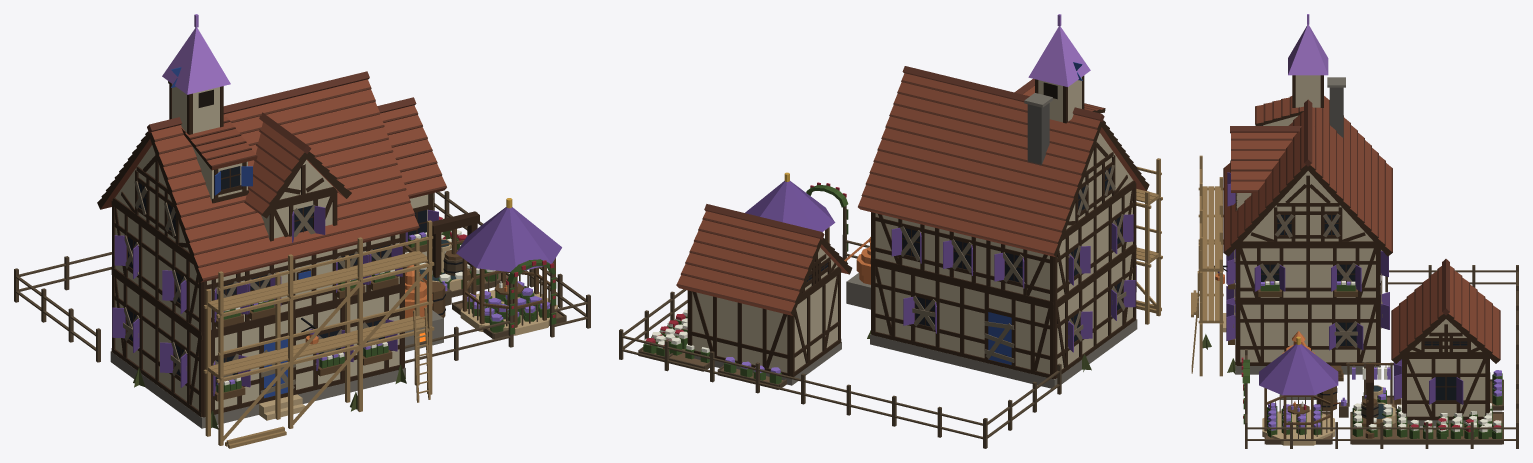
The model's file is parfumeur.glb.
3 renders of one model, left to right at view 1: azimuth 30°, elevation 25°; view 2: azimuth 150°, elevation 25°; view 3: azimuth 270°, elevation 25°, orthographic. The views are drawn at different scales.
Parts seen in each view (by area): view 1: Haus, Geruest, Stufe2, Stufe3, Stufe1, Leerstand; view 2: Haus, Stufe2, Stufe1, Stufe3, Leerstand, Geruest; view 3: Haus, Stufe2, Stufe3, Stufe1, Geruest, Leerstand.
Boxes of the visible parts, x1,y1,x2,y2 form: Haus: (97, 71, 451, 428); Geruest: (203, 220, 434, 448); Stufe2: (181, 97, 587, 363); Stufe3: (162, 14, 561, 335); Stufe1: (14, 191, 590, 362); Leerstand: (123, 181, 406, 429); Haus: (844, 66, 1149, 388); Stufe2: (638, 103, 1105, 385); Stufe1: (619, 289, 1061, 448); Stufe3: (644, 14, 1090, 356); Leerstand: (867, 165, 1126, 371); Geruest: (1136, 158, 1162, 324); Haus: (1214, 77, 1392, 417); Stufe2: (1241, 96, 1502, 444); Stufe3: (1259, 14, 1502, 445); Stufe1: (1245, 265, 1518, 448); Geruest: (1191, 155, 1223, 376); Leerstand: (1202, 213, 1382, 373).
Size of the model in its own units: 15.72 by 13.74 by 13.78.
